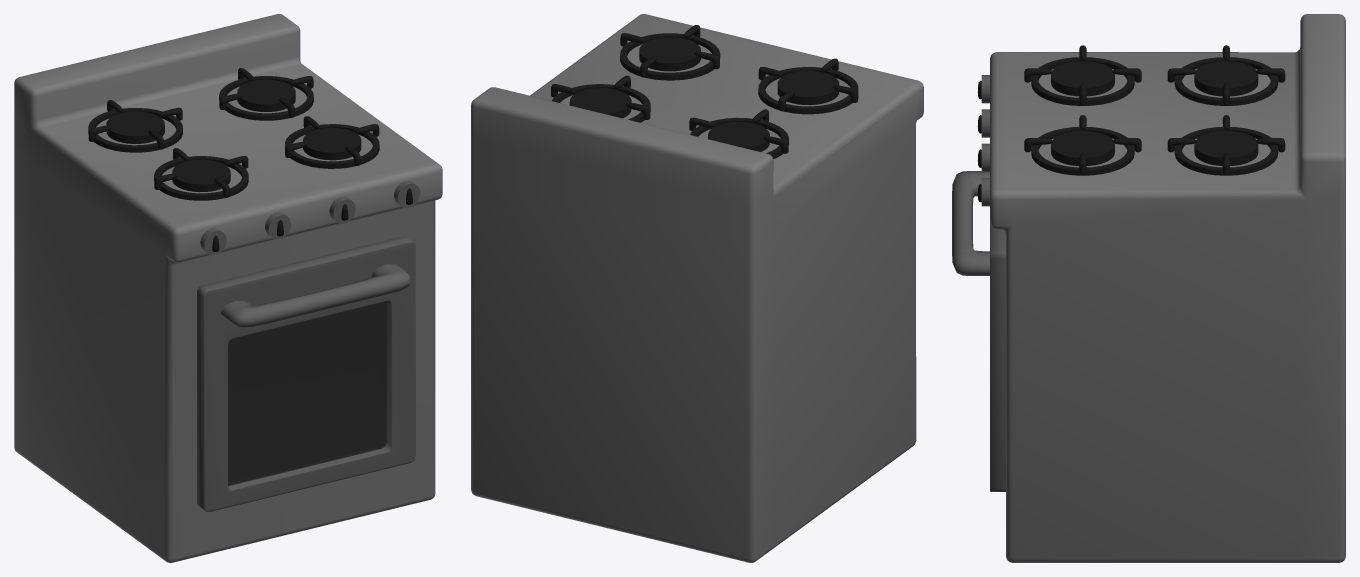
File: stove.fbx
The picture shows the model from 3 angles, left to right: view 1: azimuth 30°, elevation 25°; view 2: azimuth 150°, elevation 25°; view 3: azimuth 270°, elevation 25°; orthographic projection. The views are drawn at different scales.
Visible parts, largest first — view 1: Cube.003; view 2: Cube.003; view 3: Cube.003.
Part boxes in pixels (x1=…): Cube.003: x1=14, y1=14, x2=442, y2=562; Cube.003: x1=471, y1=14, x2=923, y2=562; Cube.003: x1=952, y1=14, x2=1345, y2=562.
Size of the model in its own units: 568 by 755 by 658.
